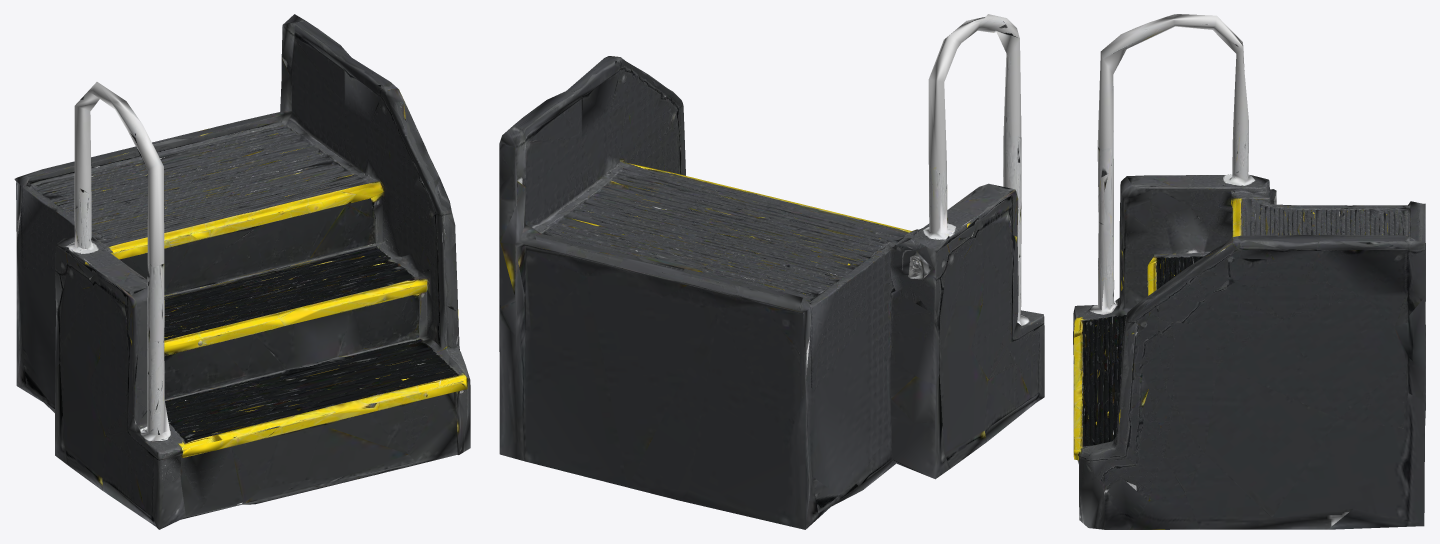
Rendered from escaleras.glb.
3 views of the same model, side by side, from view 1: azimuth 30°, elevation 25°; view 2: azimuth 150°, elevation 25°; view 3: azimuth 270°, elevation 25° (orthographic). The views are drawn at different scales.
Size of the model in its own units: 1.64 by 1.88 by 1.62.
1 material, 1 textured.
